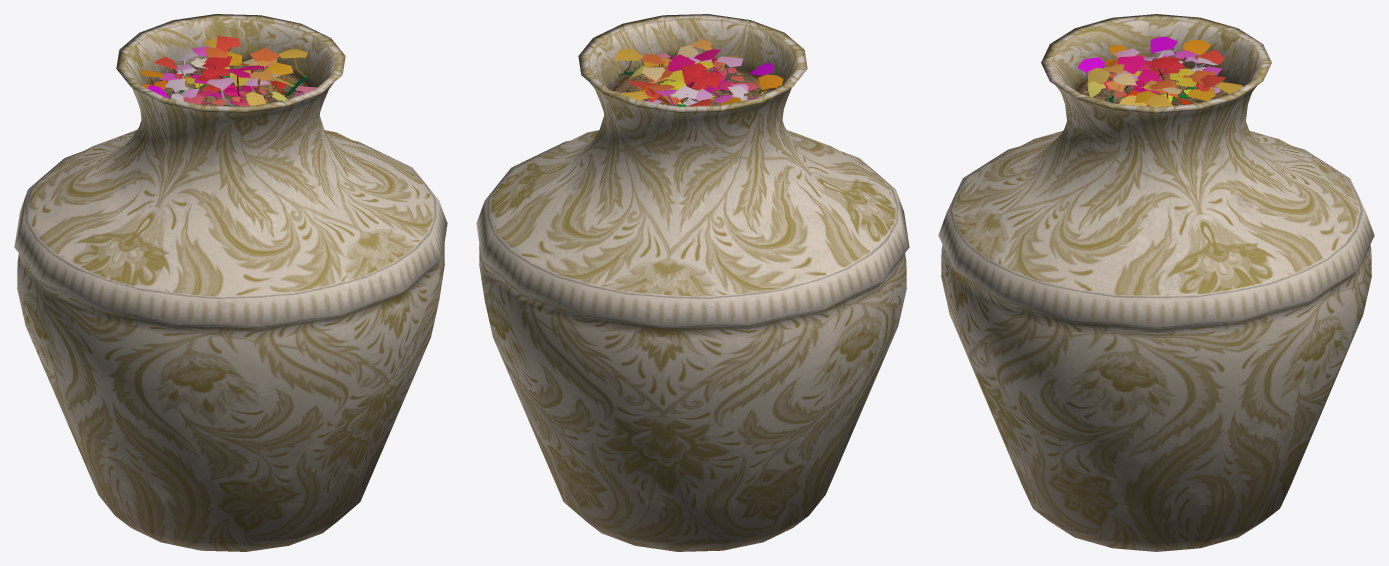
Rendered from SM_Vase_Low.fbx.
3 views of the same model, side by side, from view 1: azimuth 30°, elevation 25°; view 2: azimuth 150°, elevation 25°; view 3: azimuth 270°, elevation 25° (orthographic).
Visible parts, largest first — view 1: Vase_low, Yvi_low, Terre_low; view 2: Vase_low, Yvi_low, Terre_low; view 3: Vase_low, Yvi_low, Terre_low.
Boxes of the visible parts, x1=… form: Vase_low: x1=14, y1=14, x2=447, y2=551; Yvi_low: x1=140, y1=36, x2=316, y2=106; Terre_low: x1=159, y1=60, x2=308, y2=106; Vase_low: x1=476, y1=14, x2=909, y2=551; Yvi_low: x1=615, y1=39, x2=783, y2=106; Terre_low: x1=612, y1=56, x2=773, y2=105; Vase_low: x1=938, y1=14, x2=1374, y2=551; Yvi_low: x1=1078, y1=36, x2=1242, y2=107; Terre_low: x1=1077, y1=64, x2=1233, y2=106.
Bounding box in the file's own units: 0.2073 × 0.2404 × 0.2073.
